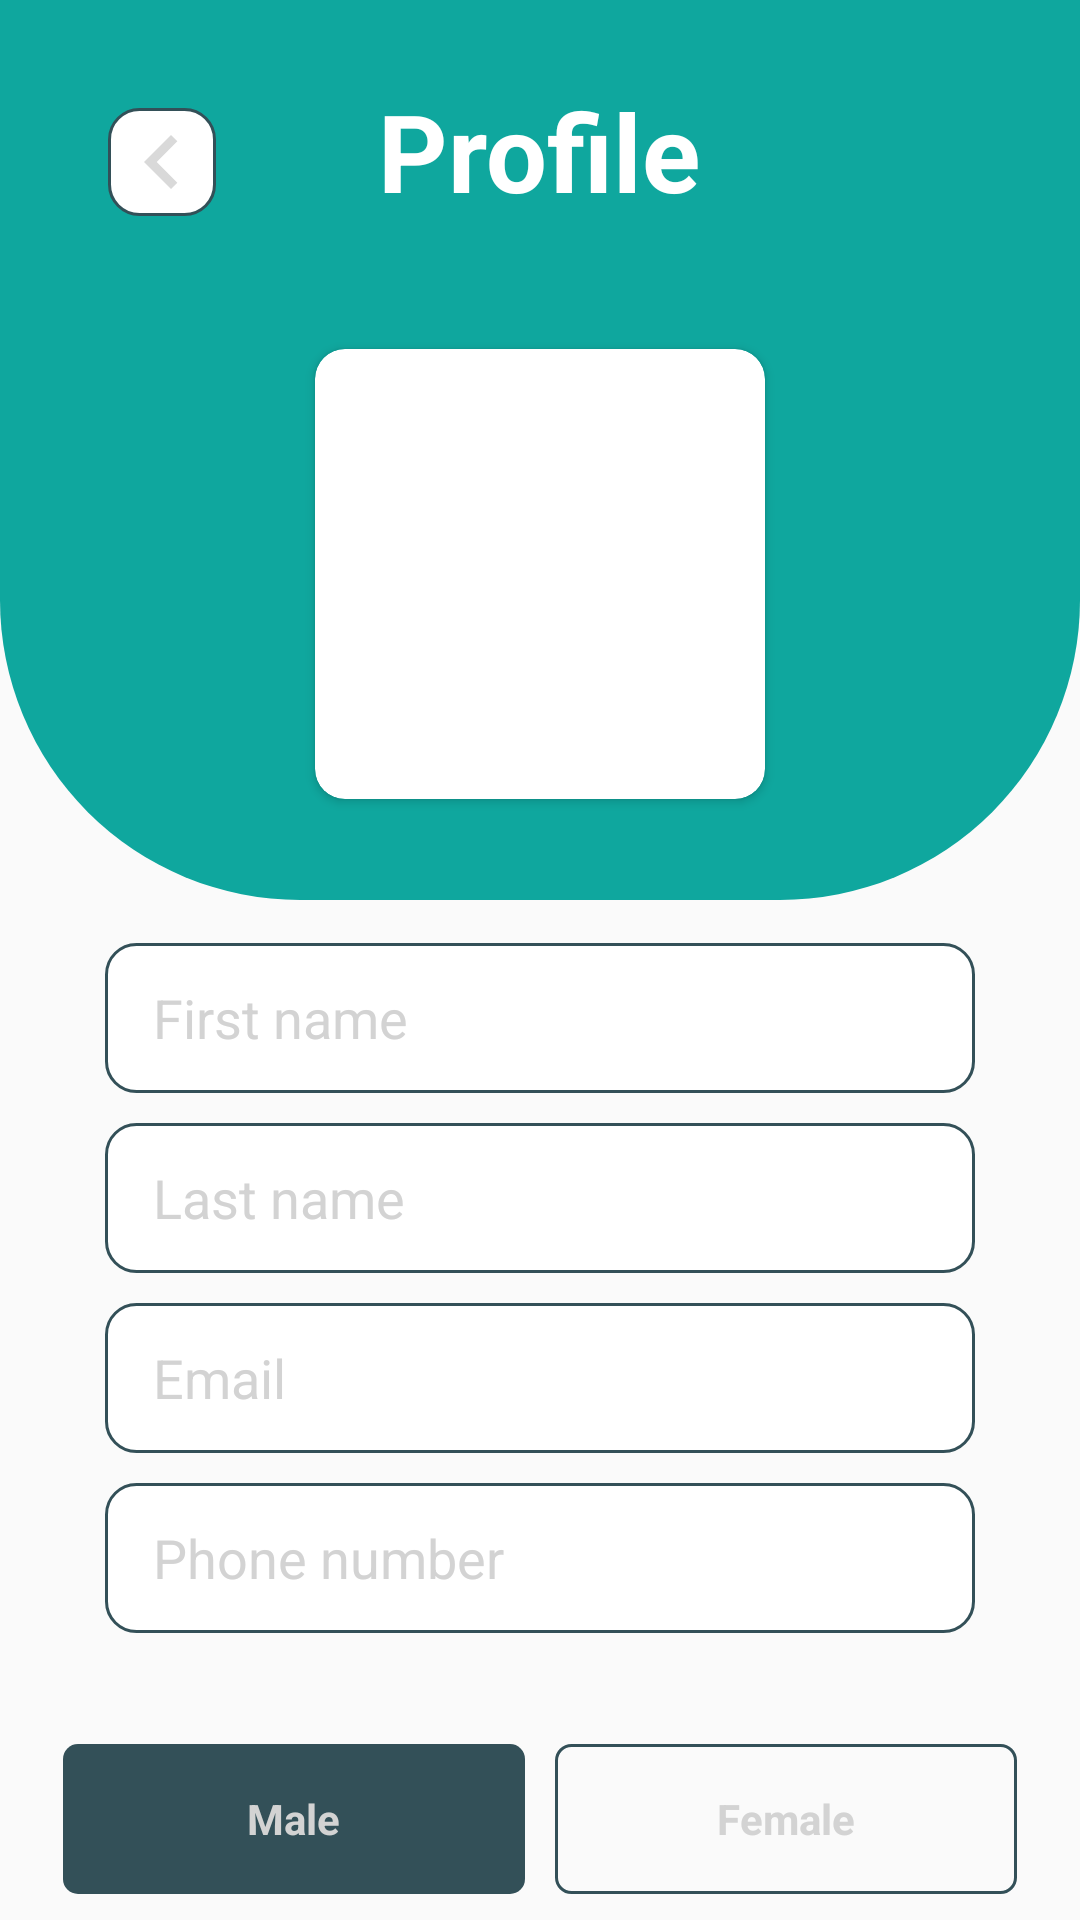

Locate icon controls on the screen. Image size 1080x1920, boxes as [left=x1, top=y1, right=x2, bottom=y2].
back: [left=108, top=108, right=216, bottom=216]
